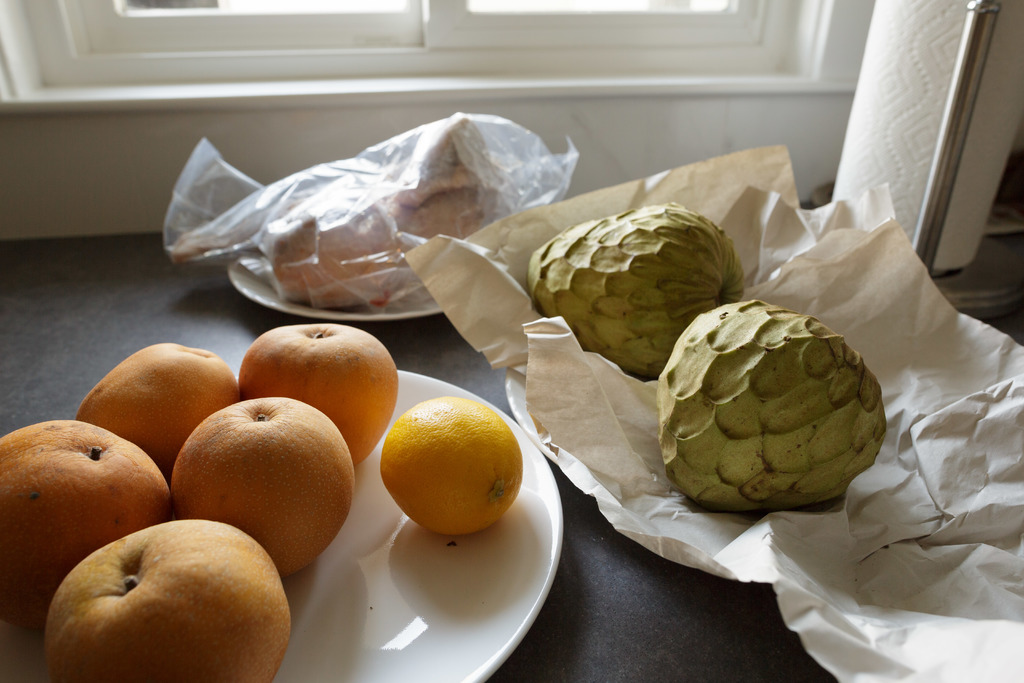Ripe: (378, 383, 532, 544)
